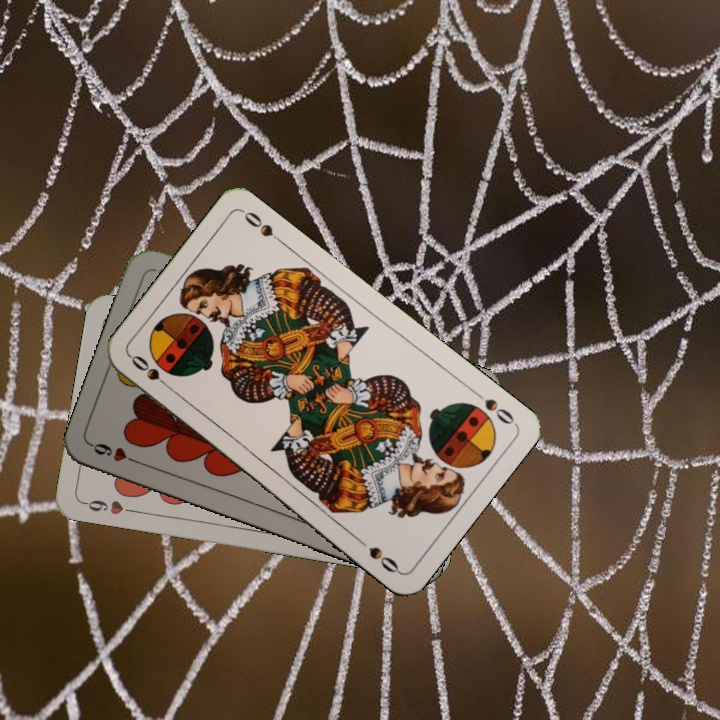H9: (87, 439, 144, 468), (79, 495, 138, 518)
SO: (126, 351, 176, 394), (468, 386, 517, 428)
